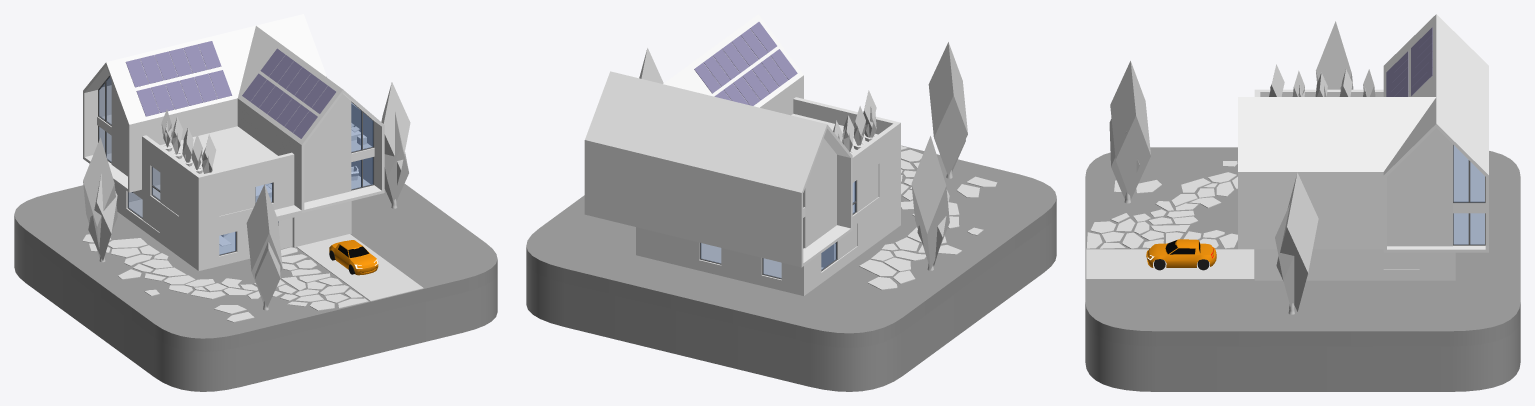
The model's file is solar-house.glb.
3 renders of one model, left to right at view 1: azimuth 30°, elevation 25°; view 2: azimuth 150°, elevation 25°; view 3: azimuth 270°, elevation 25°, orthographic. The views are drawn at different scales.
Parts seen in each view (by area): view 1: grass, ground, dark_walls, white_walls, driveway, trees, solar_panels, wood_siding, window_glass, window_frames, car, floors (+1 smaller); view 2: dark_walls, grass, ground, white_walls, trees, solar_panels, driveway, wood_siding, window_glass, floors, window_frames; view 3: grass, dark_walls, ground, trees, driveway, wood_siding, white_walls, floors, window_glass, solar_panels, car, window_frames.
Part boxes in pixels (x1,y1,x2,y2): grass: (14,183,497,351); ground: (14,228,497,391); dark_walls: (83,14,384,212); white_walls: (99,77,372,270); driveway: (82,234,423,322); trees: (83,82,410,310); solar_panels: (125,41,335,138); wood_siding: (111,81,351,231); window_glass: (99,77,372,254); window_frames: (98,76,374,255); car: (329,240,378,275); floors: (102,114,371,254); dark_walls: (584,14,875,267); grass: (526,145,1056,347); ground: (526,212,1056,391); white_walls: (636,97,900,295); trees: (639,42,967,270); solar_panels: (694,22,797,105); driveway: (859,146,997,289); wood_siding: (805,138,878,259); window_glass: (701,181,855,277); floors: (701,182,854,277); window_frames: (699,180,856,279); grass: (1085,147,1520,346); dark_walls: (1238,14,1488,252); ground: (1085,318,1520,391); trees: (1109,21,1375,314); driveway: (1086,161,1254,279); wood_siding: (1387,128,1452,246); white_walls: (1254,89,1455,280); floors: (1453,145,1484,244); window_glass: (1454,146,1484,244); solar_panels: (1386,27,1432,96); car: (1146,239,1216,267); window_frames: (1453,145,1485,245).
Size of the model in its own units: 26 by 15.51 by 26.
